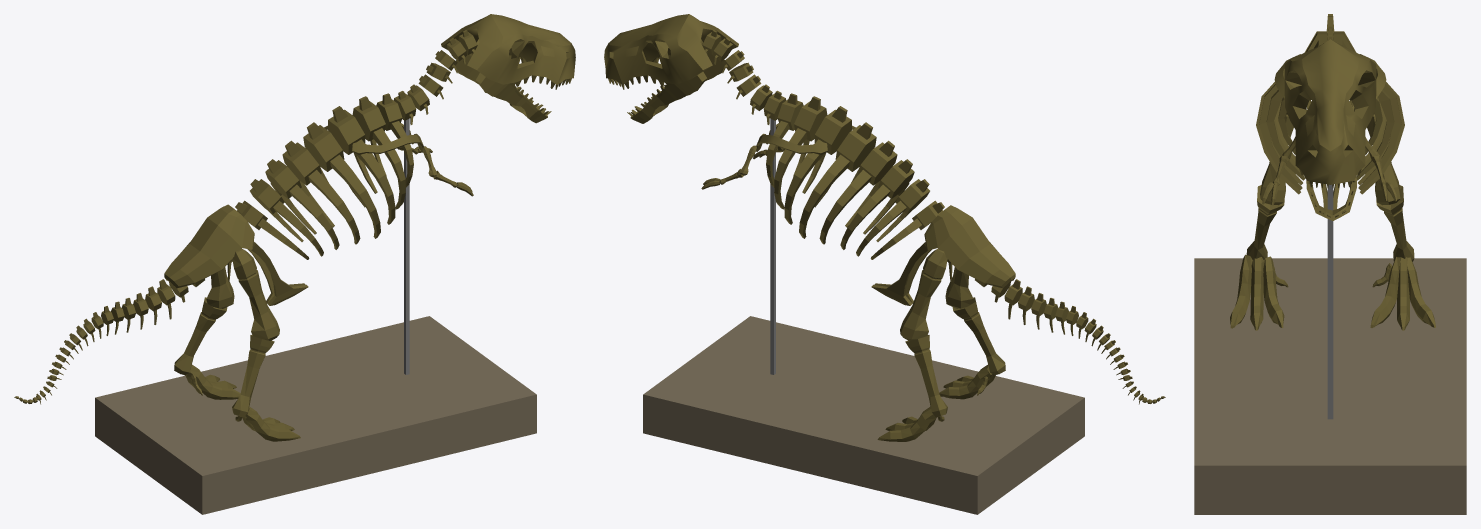
The model's file is Trophy Rex.FBX.
3 views of the same model, side by side, from view 1: azimuth 30°, elevation 25°; view 2: azimuth 150°, elevation 25°; view 3: azimuth 270°, elevation 25° (orthographic). The views are drawn at different scales.
Visible parts, largest first — view 1: Baseplate, Skull, Hip Plate, FemurRight, LowerJaw, RightShin, LeftShin, MainSpine, Ribs011, RibsRightObject017, Ribs012, Ribs010 (+11 smaller); view 2: Baseplate, Skull, Hip Plate, FemurLeft, LowerJaw, LeftShin, RightShin, MainSpine, Ribs011, RibsLeftObject001, Ribs012, Ribs010 (+11 smaller); view 3: Baseplate, Skull, LeftShin, RightShin, RLeftToe, RRightToe, RMidToe, LRightToe, LLeftToe, LMidToe, RibsRightObject019, RibsLeftObject003 (+8 smaller).
Part boxes in pixels (x1,y1,x2,y2): Baseplate: (95, 118, 536, 514); Skull: (441, 14, 575, 89); Hip Plate: (164, 204, 254, 288); FemurRight: (232, 249, 279, 340); LowerJaw: (455, 53, 551, 123); RightShin: (232, 335, 274, 417); LeftShin: (174, 297, 227, 374); MainSpine: (303, 122, 344, 171); Ribs011: (328, 106, 365, 154); RibsRightObject017: (330, 154, 380, 238); Ribs012: (282, 140, 321, 185); Ribs010: (352, 96, 385, 141); Baseplate: (643, 118, 1084, 514); Skull: (604, 14, 738, 89); Hip Plate: (924, 205, 1015, 288); FemurLeft: (900, 249, 947, 340); LowerJaw: (627, 53, 724, 123); LeftShin: (905, 335, 947, 417); RightShin: (952, 297, 1005, 374); MainSpine: (835, 122, 876, 171); Ribs011: (814, 106, 851, 154); RibsLeftObject001: (799, 154, 849, 238); Ribs012: (858, 140, 897, 185); Ribs010: (794, 96, 827, 141); Baseplate: (1194, 184, 1466, 514); Skull: (1284, 39, 1376, 188); LeftShin: (1376, 185, 1414, 261); RightShin: (1246, 185, 1284, 259); RLeftToe: (1262, 256, 1284, 327); RRightToe: (1230, 254, 1252, 328); RMidToe: (1250, 257, 1263, 330); LRightToe: (1370, 257, 1401, 327); LLeftToe: (1407, 257, 1435, 327); LMidToe: (1397, 257, 1409, 330); RibsRightObject019: (1259, 84, 1302, 190); RibsLeftObject003: (1358, 84, 1401, 190).
Size of the model in its own units: 15.12 by 9.73 by 5.
